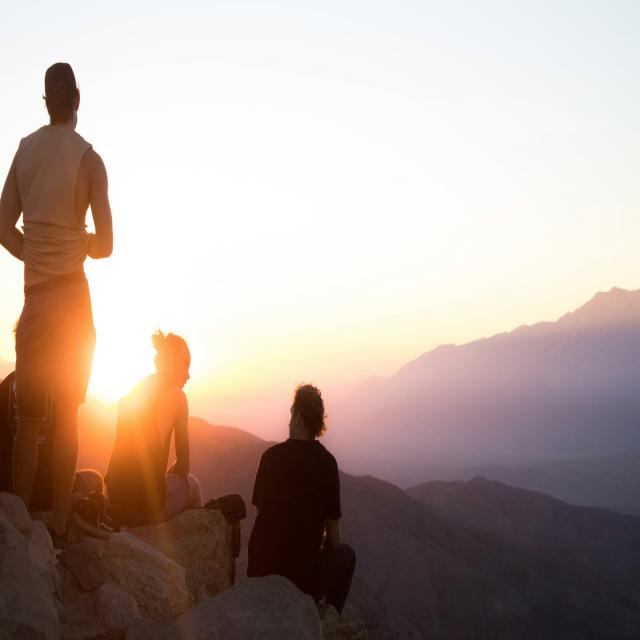adult: (0, 59, 117, 538), (246, 383, 356, 598), (106, 328, 202, 526)
